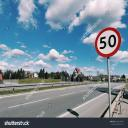speed_limit_50: (94, 27, 121, 58)
